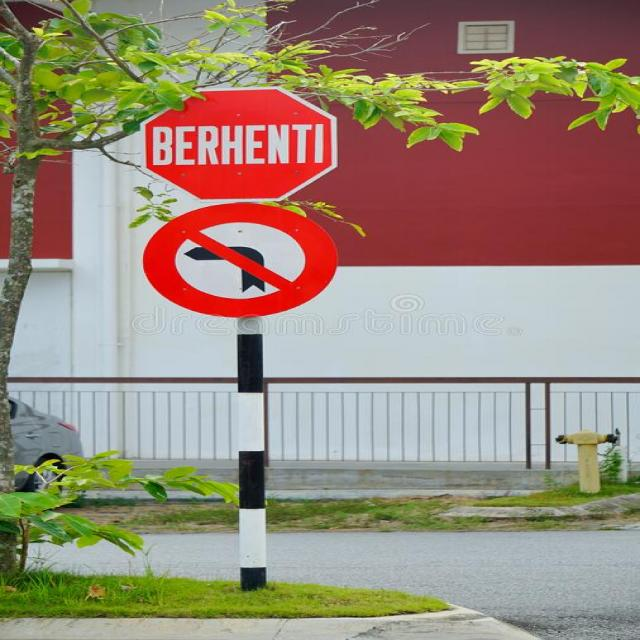stop-sign: (150, 83, 347, 183)
